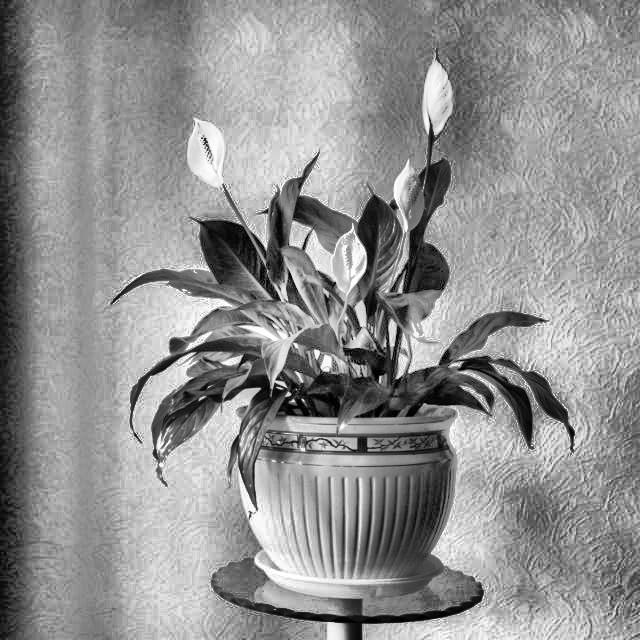plants: (110, 84, 582, 584), (112, 330, 298, 502), (419, 307, 594, 457)
